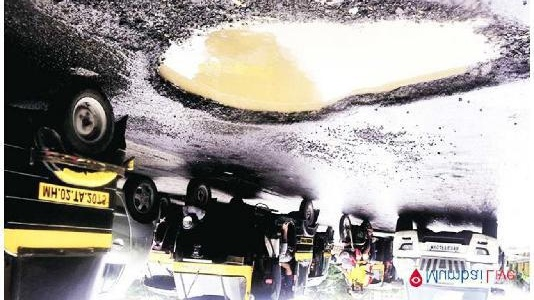pothole: (144, 0, 532, 128)
